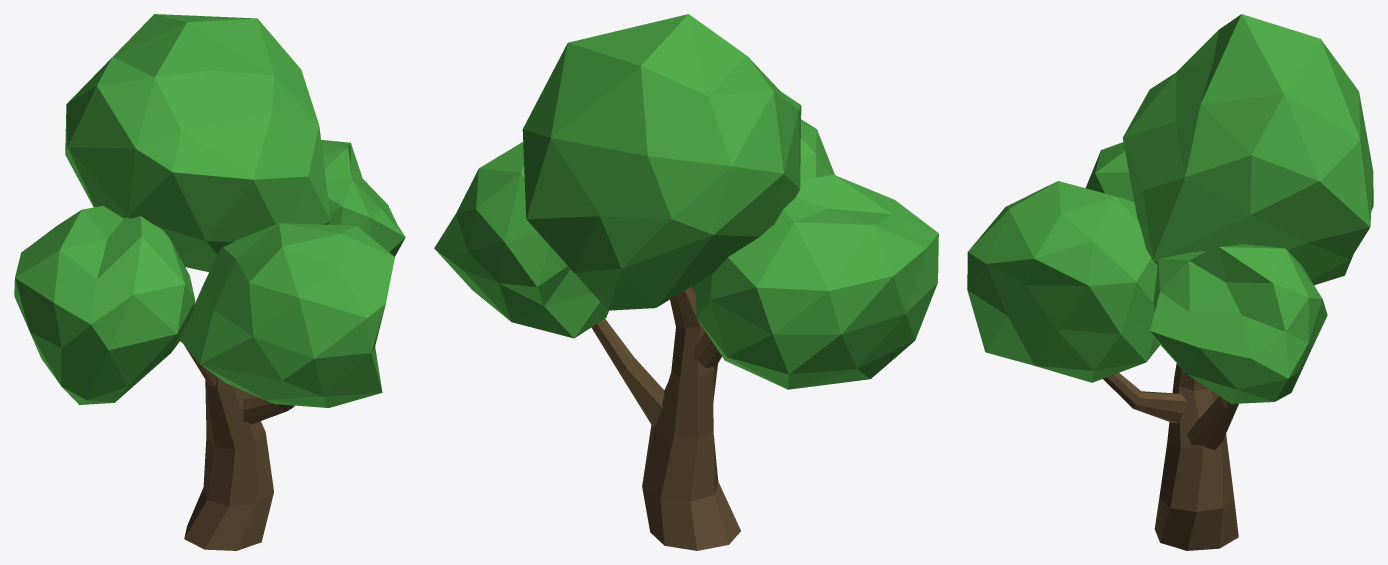
File: lowpoly_tree_2.glb
3 views of the same model, side by side, from view 1: azimuth 30°, elevation 25°; view 2: azimuth 150°, elevation 25°; view 3: azimuth 270°, elevation 25° (orthographic). The views are drawn at different scales.
Visible parts, largest first — view 1: Cylinder_2; view 2: Cylinder_2; view 3: Cylinder_2.
Boxes of the visible parts, x1,y1,x2,y2 form: Cylinder_2: [14, 14, 405, 550]; Cylinder_2: [434, 14, 938, 550]; Cylinder_2: [967, 14, 1373, 550].
Bounding box in the file's own units: 6.09 × 7.37 × 5.31.
